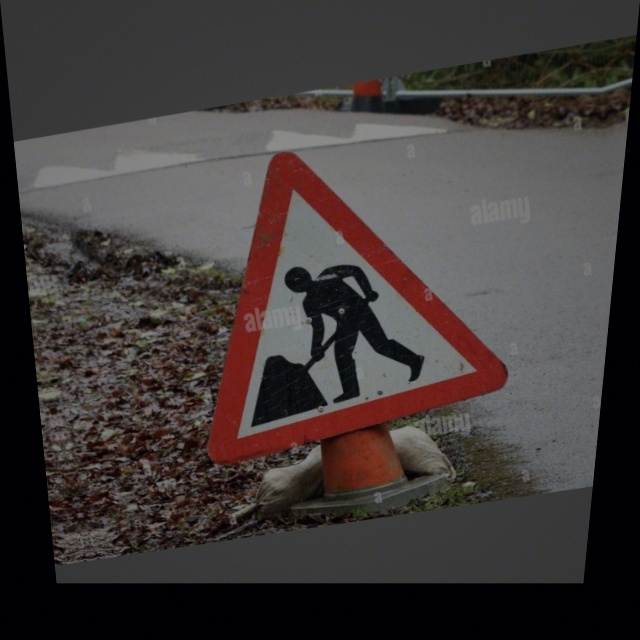Men_at_Work: (151, 120, 543, 458)
